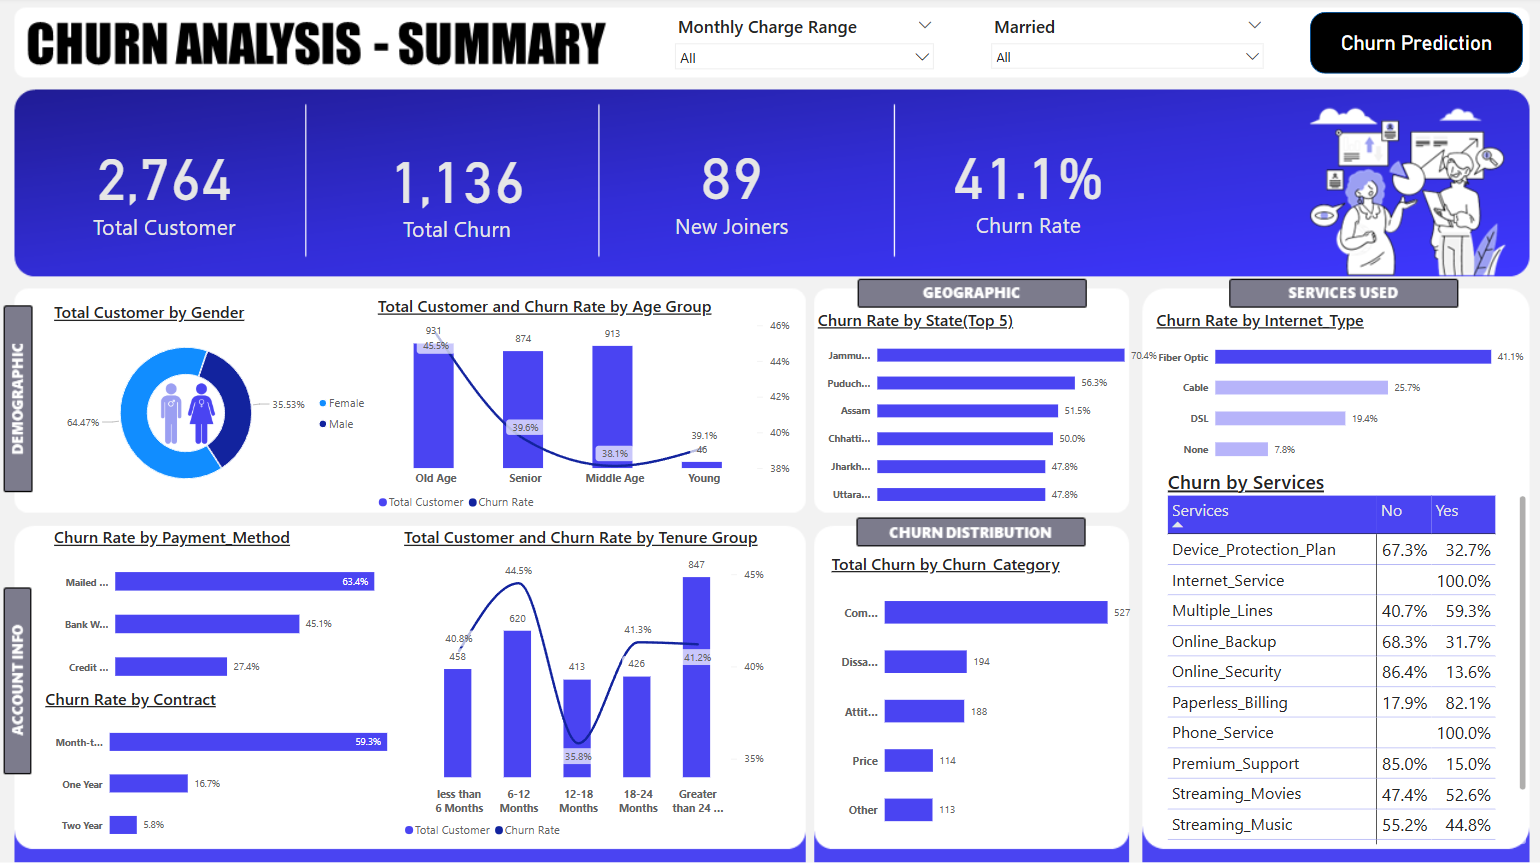

The page's visual inventory and layout, read from the dashboard file:
{"tool":"powerbi","page":{"name":"Summary","canvas":[1920,1080],"ordinal":0},"visuals":[{"type":"card","fields":{"Values":["Tbl_Measures.Total Customer"]},"box":[22,104.4,364.6,262],"z":0},{"type":"card","fields":{"Values":["Tbl_Measures.Total Churn"]},"box":[386.6,108.1,362.7,258.3],"z":1000},{"type":"card","fields":{"Values":["Tbl_Measures.new joiners"]},"box":[688.9,95.3,443.4,278.5],"z":2000},{"type":"card","fields":{"Values":["Tbl_Measures.Churn Rate"]},"box":[1112.1,104.4,335.3,258.3],"z":3000},{"type":"image","box":[181.8,467.5,103.9,97.4],"z":4000},{"type":"donutChart","fields":{"Category":["prod_Churn.Gender"],"Y":["Tbl_Measures.Total Customer"]},"box":[50.9,363.1,427.3,281.2],"z":5000},{"type":"lineStackedColumnComboChart","fields":{"Category":["Mapping_groupAge.Age Group"],"Y":["Tbl_Measures.Total Customer"],"Y2":["Tbl_Measures.Churn Rate"]},"box":[454.3,355.7,547.1,302.9],"z":6000},{"type":"clusteredBarChart","fields":{"Category":["prod_Churn.Payment_Method"],"Y":["Tbl_Measures.Churn Rate"]},"box":[50.9,644.3,469.4,241.3],"z":7000},{"type":"clusteredBarChart","fields":{"Category":["prod_Churn.Contract"],"Y":["Tbl_Measures.Churn Rate"]},"box":[39.9,843.5,493.7,236.9],"z":8000},{"type":"lineStackedColumnComboChart","fields":{"Category":["Mapping_groupTenure.Tenure Group"],"Y":["Tbl_Measures.Total Customer"],"Y2":["Tbl_Measures.Churn Rate"]},"box":[487.1,644.3,482.7,422.9],"z":9000},{"type":"clusteredBarChart","title":"Churn Rate by State(Top 5)","fields":{"Category":["prod_Churn.State"],"Y":["Tbl_Measures.Churn Rate"]},"box":[1001.2,373.8,453.8,285],"z":10000},{"type":"clusteredBarChart","fields":{"Category":["prod_Churn.Churn_Category"],"Y":["Tbl_Measures.Total Churn"]},"box":[1017.5,676,404.5,391.9],"z":11000},{"type":"clusteredBarChart","fields":{"Category":["prod_Churn.Internet_Type"],"Y":["Tbl_Measures.Churn Rate"]},"box":[1422.5,373.8,491.2,231.2],"z":12000},{"type":"slicer","fields":{"Values":["prod_Churn.Monthly Charge Status"]},"box":[835.4,22,331.6,111.8],"z":13000},{"type":"slicer","fields":{"Values":["prod_Churn.Married"]},"box":[1228.3,21.7,348.3,83.3],"z":14000},{"type":"pivotTable","fields":{"Rows":["prod_Services.Services"],"Values":["prod_Churn.churn percentage row"]},"box":[1955,167.5,466.2,258.8],"z":15000},{"type":"pivotTable","title":"Churn by Services","fields":{"Columns":["prod_Services.Status"],"Rows":["prod_Services.Services"],"Values":["prod_Churn.churn percentage row"]},"box":[1435.6,571.6,477.8,497.5],"z":16000},{"type":"shape","box":[1628.3,18.3,265,76.7],"z":16001}]}

Visuals, with their boxes in screenshot pixels (x1, y1, x2, y2), scaled from the page's 1920x1080 canvas onto the 1540x863 screenshot:
card - Tbl_Measures.Total Customer: [x1=18, y1=83, x2=310, y2=293]
card - Tbl_Measures.Total Churn: [x1=310, y1=86, x2=601, y2=293]
card - Tbl_Measures.new joiners: [x1=553, y1=76, x2=908, y2=299]
card - Tbl_Measures.Churn Rate: [x1=892, y1=83, x2=1161, y2=290]
image: [x1=146, y1=374, x2=229, y2=451]
donutChart - prod_Churn.Gender x Tbl_Measures.Total Customer: [x1=41, y1=290, x2=384, y2=515]
lineStackedColumnComboChart - Mapping_groupAge.Age Group x Tbl_Measures.Total Customer: [x1=364, y1=284, x2=803, y2=526]
clusteredBarChart - prod_Churn.Payment_Method x Tbl_Measures.Churn Rate: [x1=41, y1=515, x2=417, y2=708]
clusteredBarChart - prod_Churn.Contract x Tbl_Measures.Churn Rate: [x1=32, y1=674, x2=428, y2=862]
lineStackedColumnComboChart - Mapping_groupTenure.Tenure Group x Tbl_Measures.Total Customer: [x1=391, y1=515, x2=778, y2=853]
"Churn Rate by State(Top 5)" clusteredBarChart: [x1=803, y1=299, x2=1167, y2=526]
clusteredBarChart - prod_Churn.Churn_Category x Tbl_Measures.Total Churn: [x1=816, y1=540, x2=1141, y2=853]
clusteredBarChart - prod_Churn.Internet_Type x Tbl_Measures.Churn Rate: [x1=1141, y1=299, x2=1535, y2=483]
slicer - prod_Churn.Monthly Charge Status: [x1=670, y1=18, x2=936, y2=107]
slicer - prod_Churn.Married: [x1=985, y1=17, x2=1265, y2=84]
"Churn by Services" pivotTable: [x1=1151, y1=457, x2=1535, y2=854]
shape: [x1=1306, y1=15, x2=1519, y2=76]
